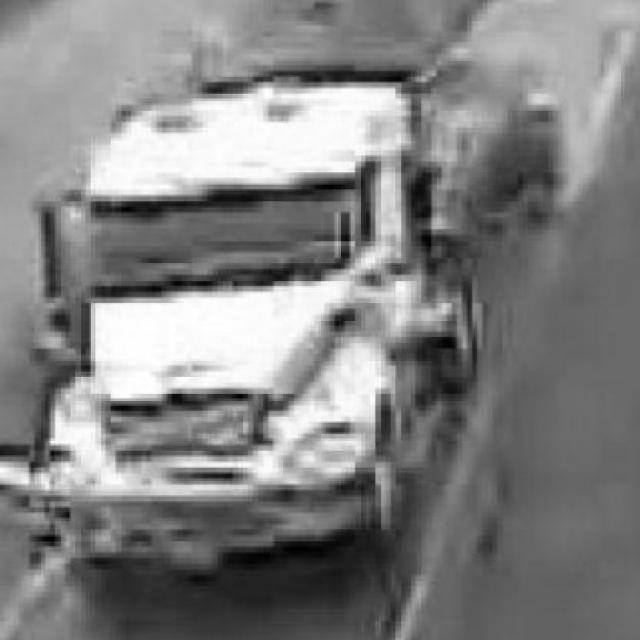Box Truck: (27, 0, 564, 568)
